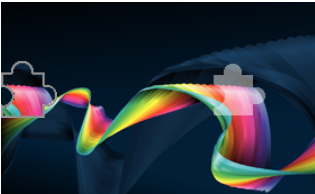target: (210, 62, 268, 120)
